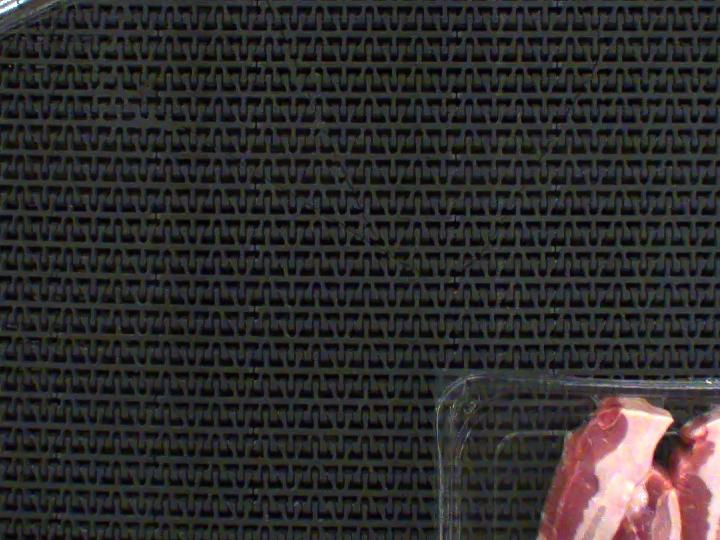packaging-error: (582, 384, 673, 408)
